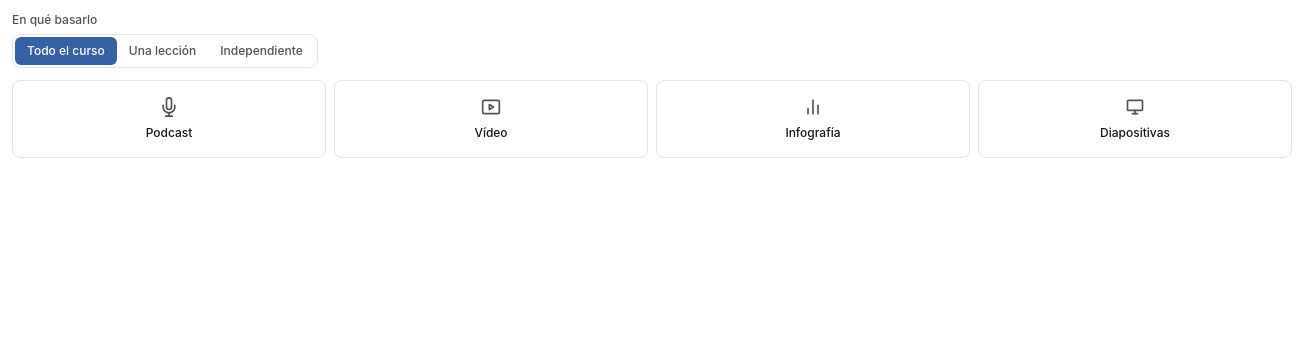
Test: <CourseMediaGenerator> with a degraded requirement › keeps the podcast usable and says what will be reduced
Click the button "Podcast".
click(169, 119)  # box [12, 80, 326, 158]
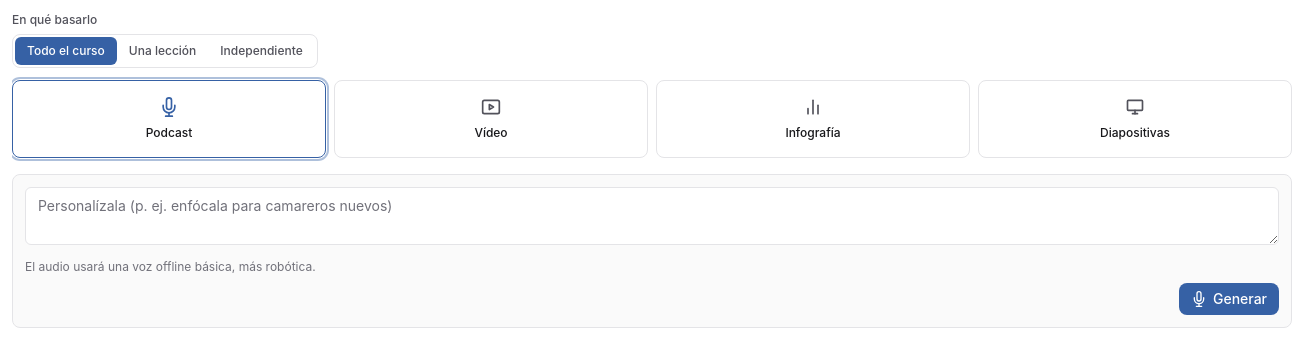
Now the text box named "Enfoque o información extra para la generación" is shown, box [25, 187, 1279, 245]
Now the text "El audio usará una voz offline básica, más robótica." is shown, box [25, 259, 316, 274]
